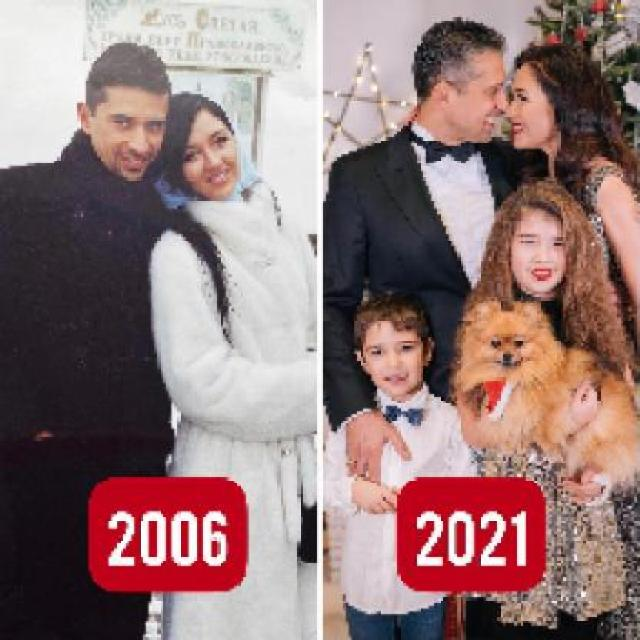child: (323, 292, 463, 638)
